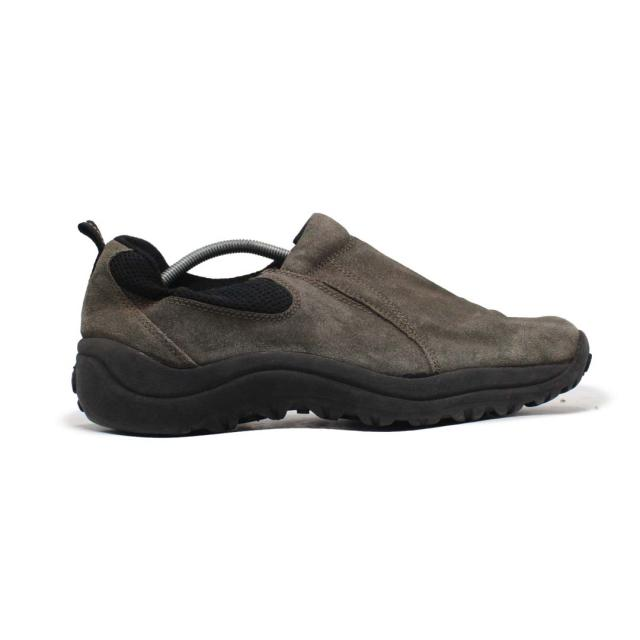heel: (54, 201, 114, 342)
midsole: (80, 339, 598, 441)
uppersole: (114, 213, 593, 367)
